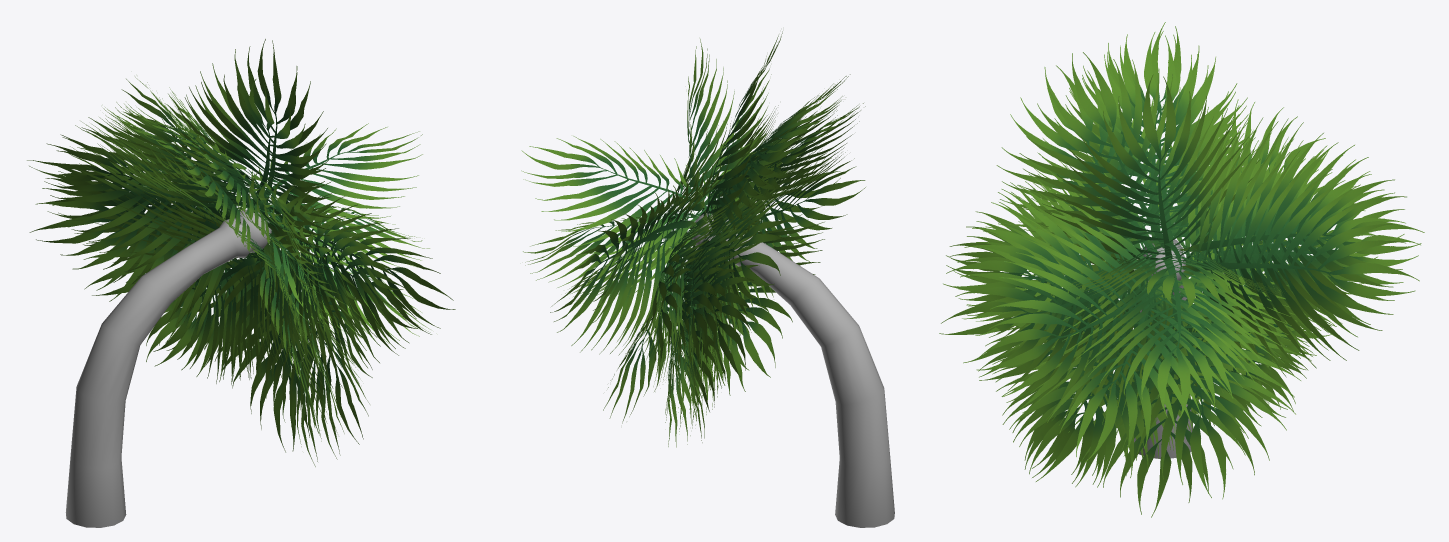
The model's file is HangingPalm.fbx.
3 views of the same model, side by side, from view 1: azimuth 30°, elevation 25°; view 2: azimuth 150°, elevation 25°; view 3: azimuth 270°, elevation 25° (orthographic). The views are drawn at different scales.
Visible parts, largest first — view 1: PalmLeafOriginal50, SideTree; view 2: PalmLeafOriginal50, SideTree; view 3: PalmLeafOriginal50, SideTree.
Part boxes in pixels (x1,y1,x2,y2): PalmLeafOriginal50: (27,39,455,466); SideTree: (65,209,271,527); PalmLeafOriginal50: (521,31,865,447); SideTree: (692,213,894,527); PalmLeafOriginal50: (939,22,1424,517); SideTree: (1134,239,1193,458).
Bounding box in the file's own units: 34.69 × 40.34 × 39.07.
